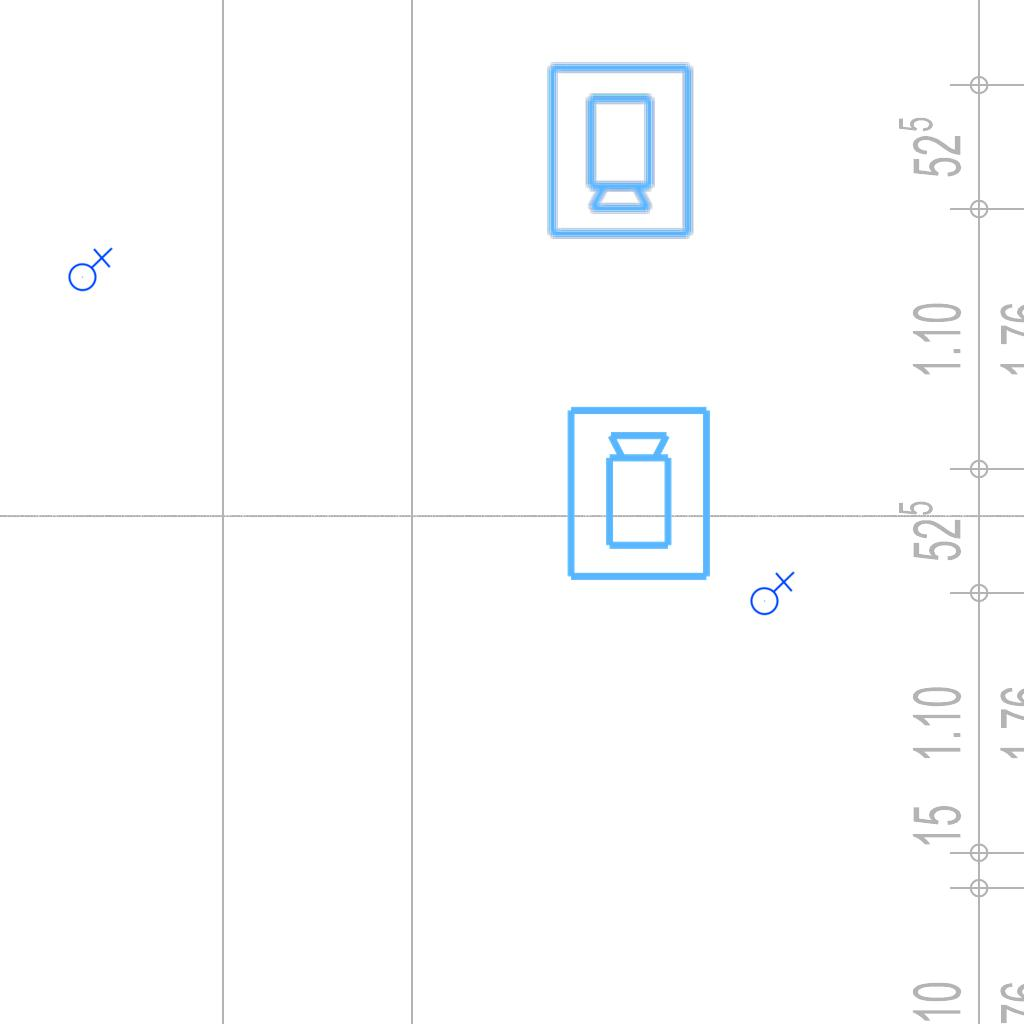Elektroanschluss_allgemein_230V_Geraeteanschlussdose_230V: (64, 245, 113, 292), (746, 569, 795, 616)
KFO_Kamera_mit_Festobjektiv: (542, 59, 696, 241), (563, 403, 717, 585)
